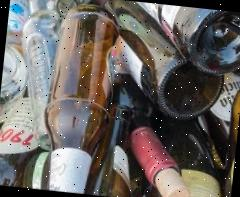glass: (74, 0, 230, 122), (34, 0, 122, 195)
